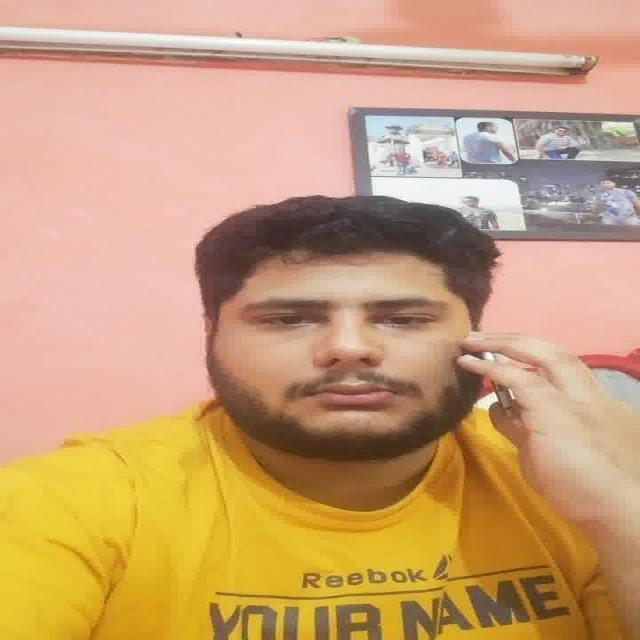Phone: (480, 348, 519, 422)
